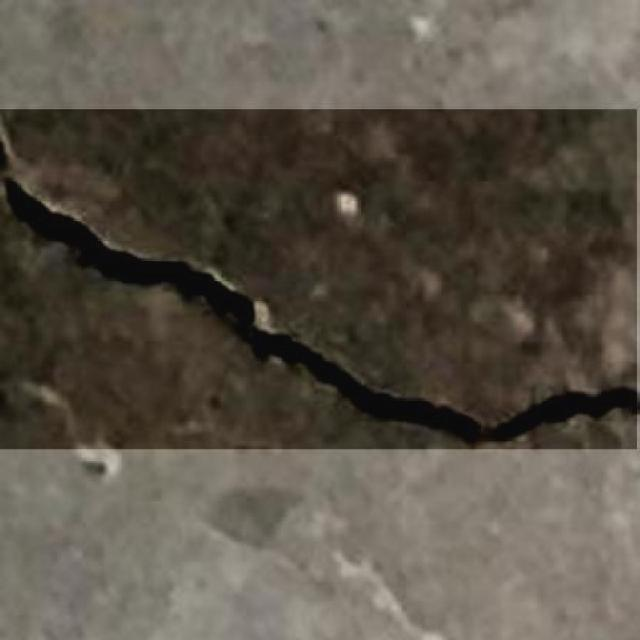crack: (0, 124, 640, 444)
